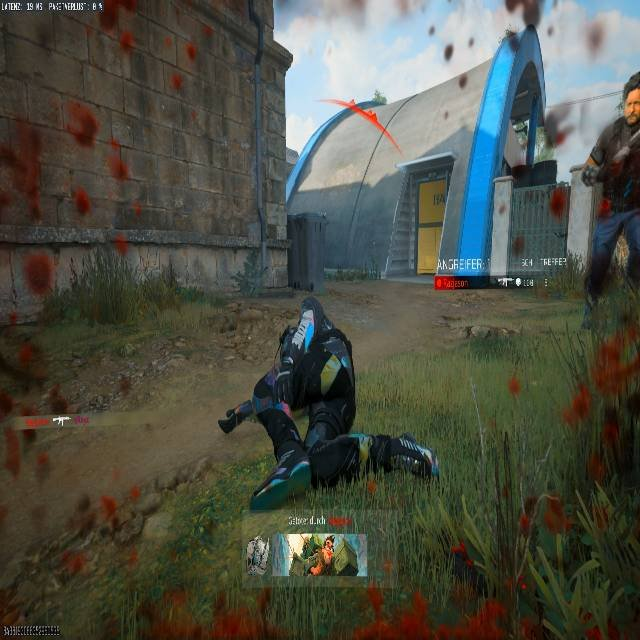head: (622, 69, 640, 125)
player: (575, 70, 639, 331)
